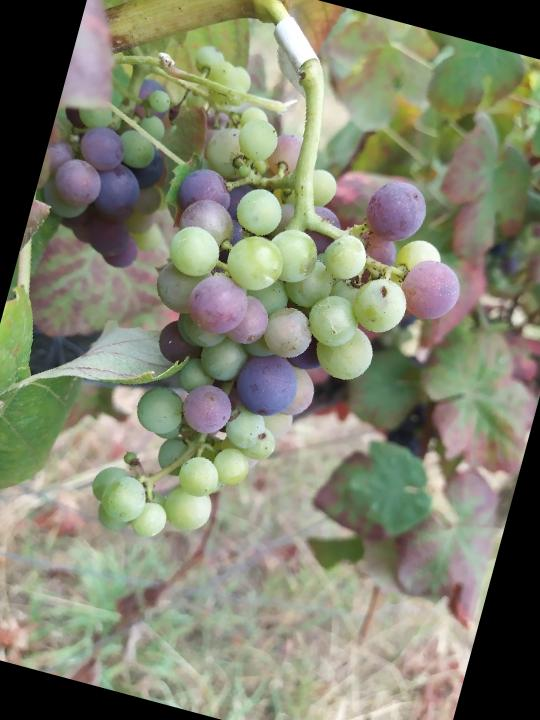grape: (79, 95, 495, 605)
